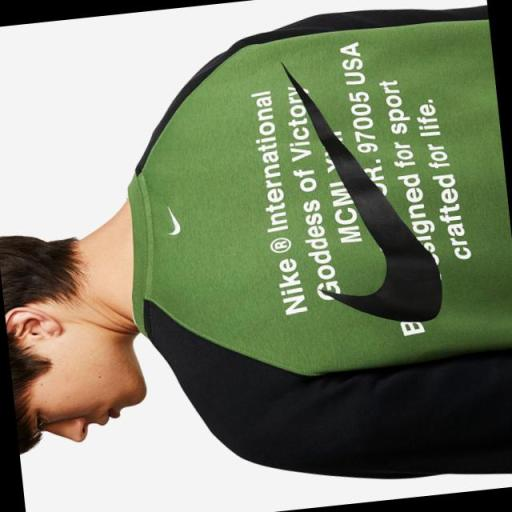Nike: (162, 199, 185, 238)
